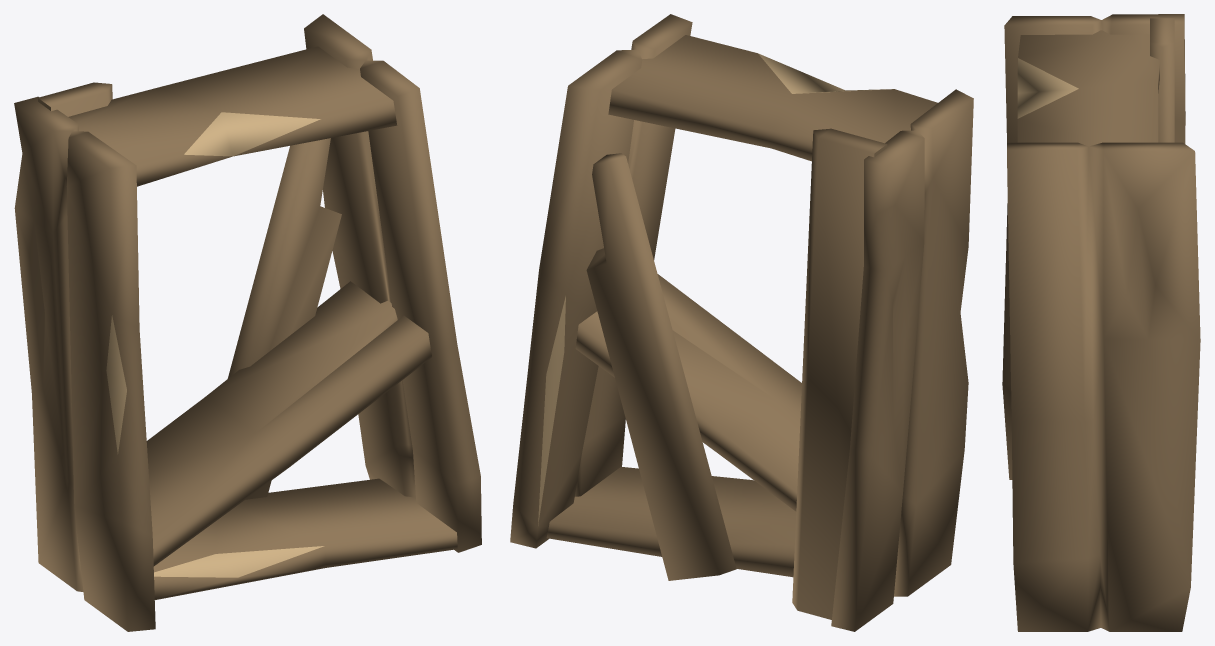
File: rpgpp_av_shelf_wood_03b.gltf
3 views of the same model, side by side, from view 1: azimuth 30°, elevation 25°; view 2: azimuth 150°, elevation 25°; view 3: azimuth 270°, elevation 25° (orthographic). The views are drawn at different scales.
Visible parts, largest first — view 1: rpgpp_av_shelf_wood_03b; view 2: rpgpp_av_shelf_wood_03b; view 3: rpgpp_av_shelf_wood_03b.
Part boxes in pixels (<box>): rpgpp_av_shelf_wood_03b: <box>14,14,481,631</box>; rpgpp_av_shelf_wood_03b: <box>510,14,973,631</box>; rpgpp_av_shelf_wood_03b: <box>1002,14,1200,631</box>.
Size of the model in its own units: 0.011 by 0.0134 by 0.00527.
1 material, 1 textured.
